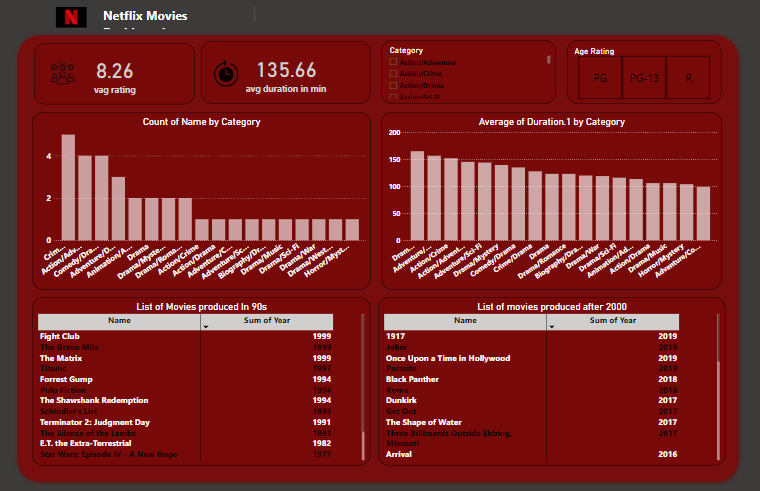

What the dashboard file says about the page in this screenshot:
{"tool":"powerbi","page":{"name":"Dashboard","canvas":[2000,1300],"ordinal":0},"visuals":[{"type":"textbox","box":[276.7,20.9,409.8,67.9],"z":0},{"type":"image","box":[154,22,90,64],"z":1000},{"type":"shape","box":[48,88,1904,1188],"z":2000},{"type":"card","fields":{"Values":["NetflixMovies.vag rating"]},"box":[102,120,420,160],"z":3000},{"type":"card","fields":{"Values":["NetflixMovies.avg duration"]},"box":[538,116,442,164],"z":4000},{"type":"slicer","fields":{"Values":["NetflixMovies.Category"]},"box":[1006.7,113.3,456.7,166.7],"z":5000},{"type":"slicer","fields":{"Values":["NetflixMovies.Age Rating"]},"box":[1493.3,113.3,403.3,166.7],"z":6000},{"type":"clusteredColumnChart","fields":{"Category":["NetflixMovies.Category"],"Y":["Avg(NetflixMovies.Duration.1)"]},"box":[1008,300,890,464],"z":7000},{"type":"clusteredColumnChart","fields":{"Category":["NetflixMovies.Category"],"Y":["CountNonNull(NetflixMovies.Name)"]},"box":[96,300,884,464],"z":8000},{"type":"image","box":[523.3,116.7,163.3,163.3],"z":9000},{"type":"image","box":[103.3,130,140,133.3],"z":10000},{"type":"tableEx","title":"List of Movies produced In 90s","fields":{"Values":["NetflixMovies.Name","Sum(NetflixMovies.Year)"]},"box":[96.7,783.3,883.3,440],"z":11000},{"type":"tableEx","title":"List of movies produced after 2000","fields":{"Values":["NetflixMovies.Name","Sum(NetflixMovies.Year)"]},"box":[1000,783.3,906.7,440],"z":12000}]}

Visuals, with their boxes in screenshot pixels (x1, y1, x2, y2), scaled from the page's 2000x1300 canvas onto the 760x491 screenshot:
textbox: [105,8,261,34]
image: [59,8,93,32]
shape: [18,33,742,482]
card - NetflixMovies.vag rating: [39,45,198,106]
card - NetflixMovies.avg duration: [204,44,372,106]
slicer - NetflixMovies.Category: [383,43,556,106]
slicer - NetflixMovies.Age Rating: [567,43,721,106]
clusteredColumnChart - NetflixMovies.Category x Avg(NetflixMovies.Duration.1): [383,113,721,289]
clusteredColumnChart - NetflixMovies.Category x CountNonNull(NetflixMovies.Name): [36,113,372,289]
image: [199,44,261,106]
image: [39,49,92,99]
"List of Movies produced In 90s" tableEx: [37,296,372,462]
"List of movies produced after 2000" tableEx: [380,296,725,462]
